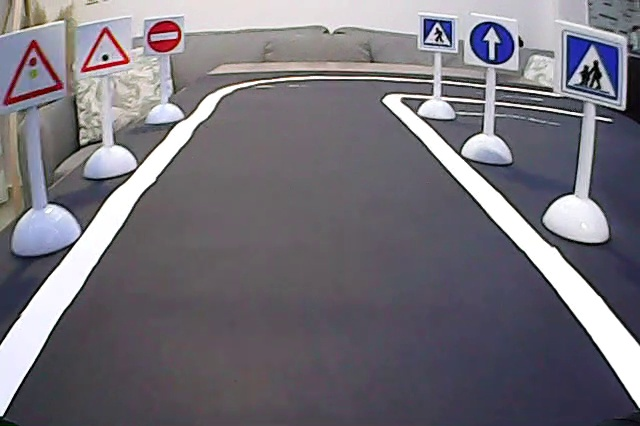do not enter: (146, 20, 186, 55)
green light: (81, 24, 132, 74)
pedestrian crossing: (419, 16, 456, 52)
red light: (3, 37, 69, 106)
school crossing: (556, 27, 625, 106)
